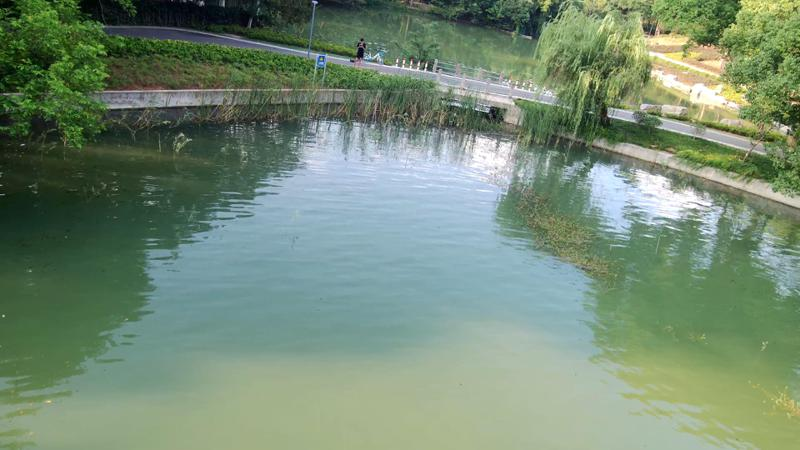passerby: (354, 37, 367, 66)
